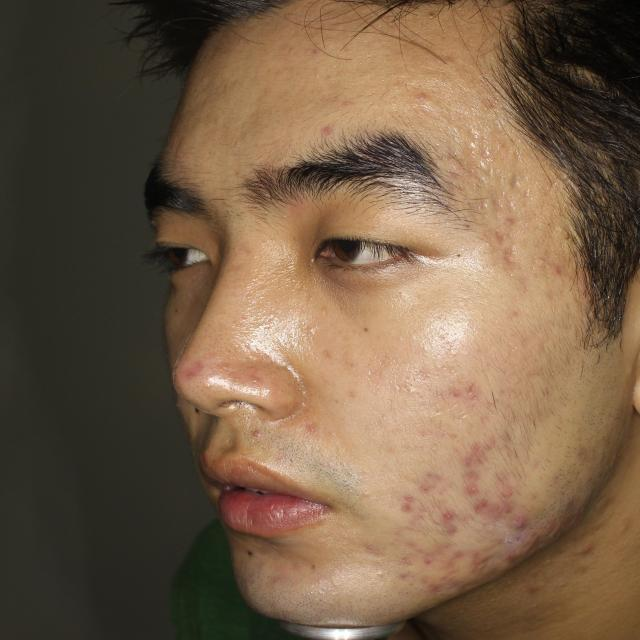Acne: (464, 451, 577, 554), (450, 138, 529, 260), (396, 542, 558, 596), (386, 458, 459, 543), (312, 340, 364, 388), (442, 374, 490, 422), (544, 260, 600, 288), (411, 82, 448, 122), (298, 412, 330, 454), (466, 89, 508, 120), (284, 36, 330, 64), (305, 117, 353, 142), (183, 349, 220, 381), (228, 543, 262, 576), (580, 436, 606, 476), (305, 554, 324, 580), (249, 425, 276, 442)
